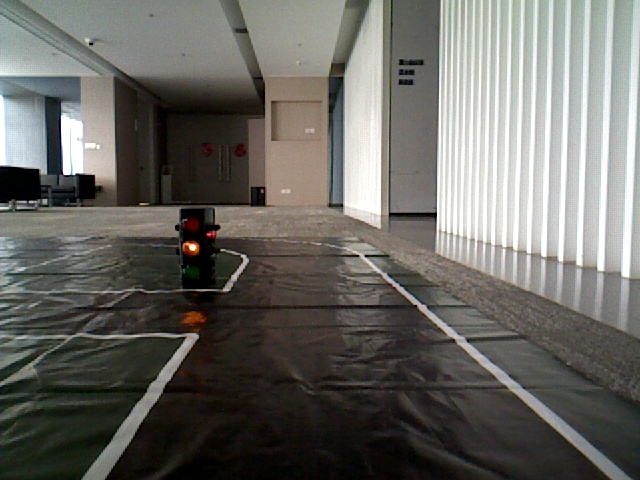yellow: (177, 209, 207, 281)
